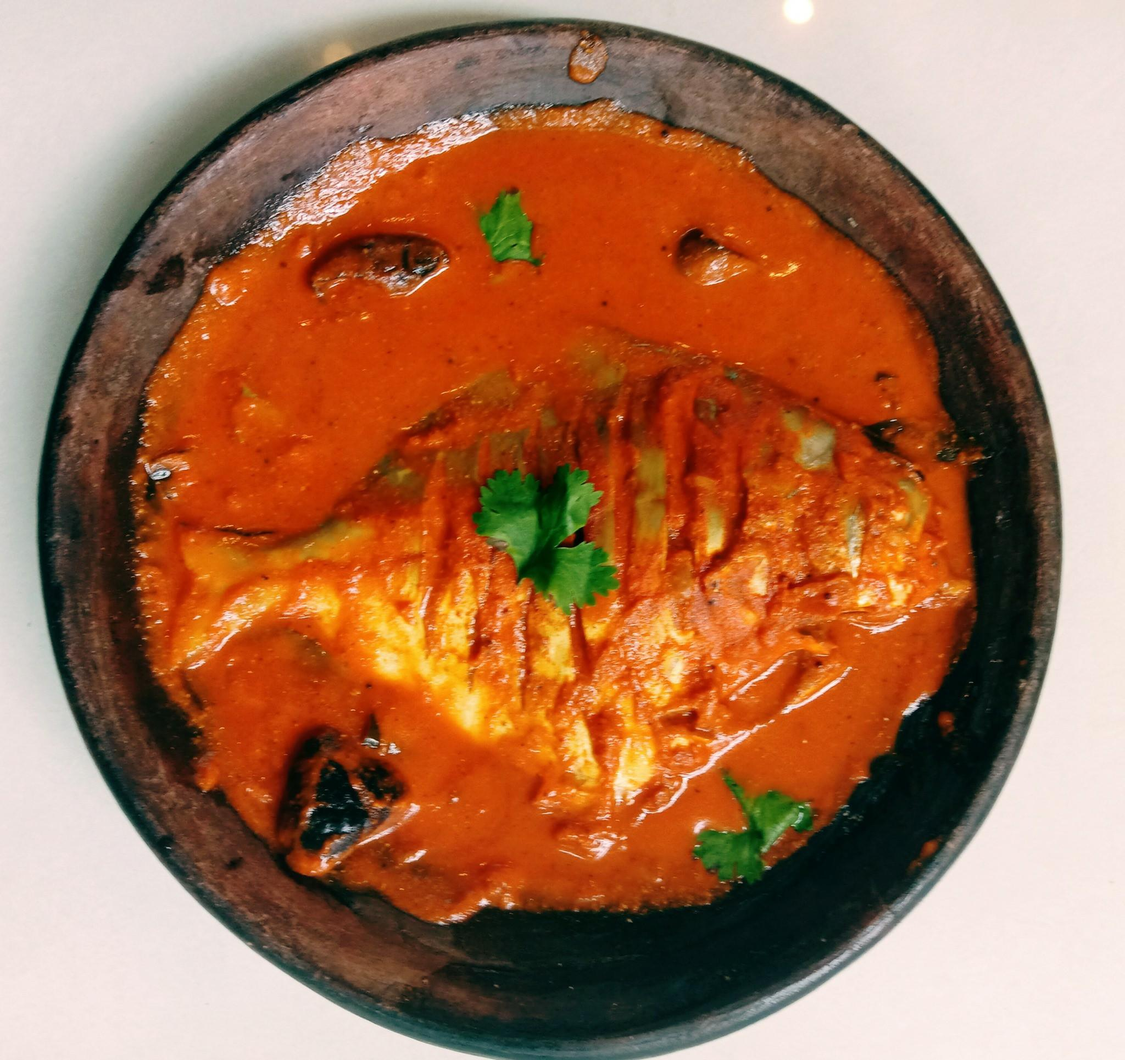FishCurry: (127, 101, 975, 927)
